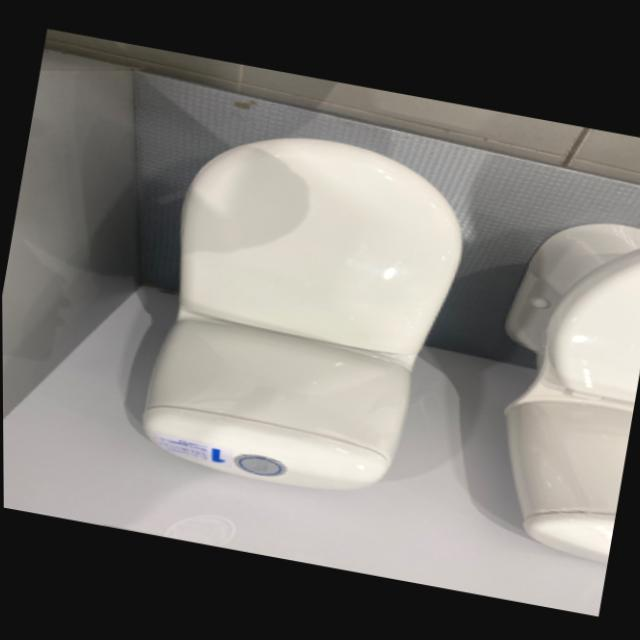toilet: (133, 114, 480, 511), (466, 205, 640, 565)
